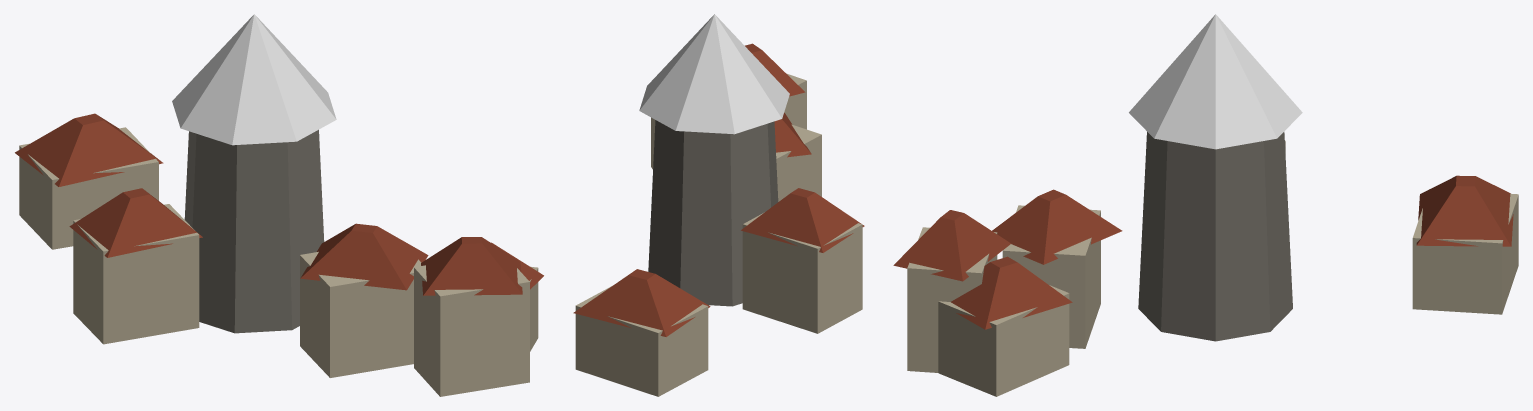
File: city_0.glb
3 views of the same model, side by side, from view 1: azimuth 30°, elevation 25°; view 2: azimuth 150°, elevation 25°; view 3: azimuth 270°, elevation 25° (orthographic). The views are drawn at different scales.
Visible parts, largest first — view 1: city_0; view 2: city_0; view 3: city_0.
Boxes of the visible parts, x1,y1,x2,y2 form: city_0: [15, 14, 543, 396]; city_0: [573, 14, 864, 396]; city_0: [893, 14, 1518, 396].
Bounding box in the file's own units: 1.63 × 1.35 × 2.59.
